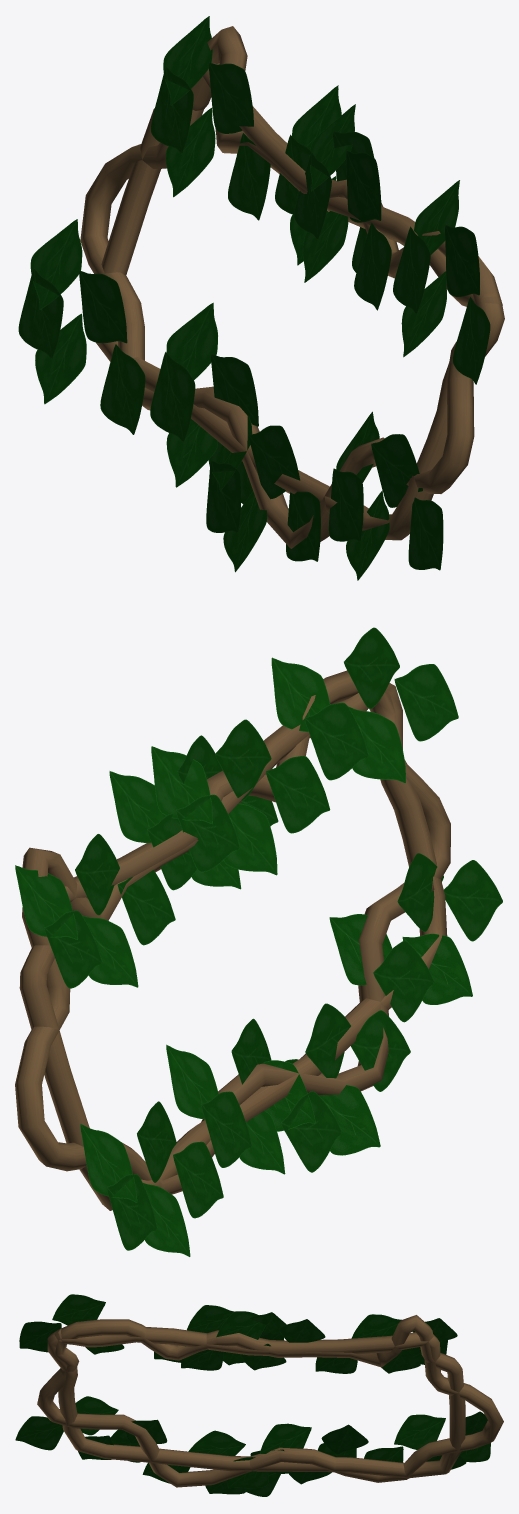
The model's file is buttonsmall.fbx.
3 views of the same model, one above another, from view 1: azimuth 30°, elevation 25°; view 2: azimuth 150°, elevation 25°; view 3: azimuth 270°, elevation 25° (orthographic). The views are drawn at different scales.
Parts seen in each view (by area): view 1: Plane.006; view 2: Plane.006; view 3: Plane.006.
Part boxes in pixels (x1,y1,x2,y2): Plane.006: (18,16,504,580); Plane.006: (15,627,502,1256); Plane.006: (15,1294,503,1496).
Size of the model in its own units: 37.81 by 77.95 by 142.
